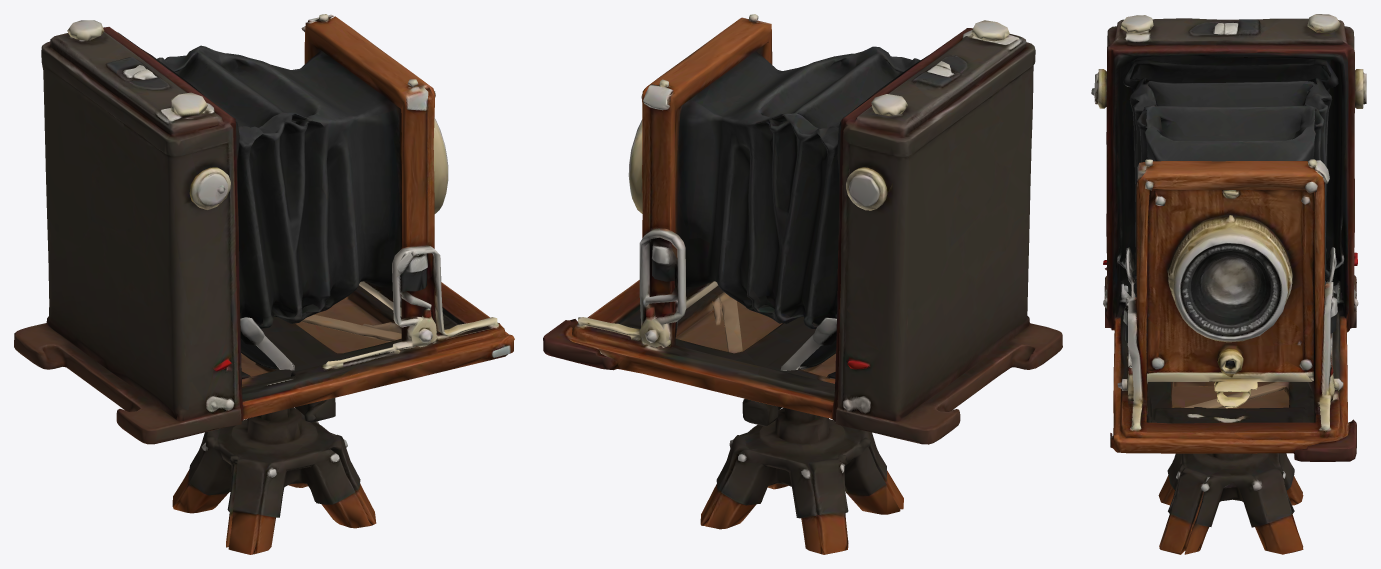
The model's file is camera.glb.
3 views of the same model, side by side, from view 1: azimuth 30°, elevation 25°; view 2: azimuth 150°, elevation 25°; view 3: azimuth 270°, elevation 25° (orthographic). The views are drawn at different scales.
Visible parts, largest first — view 1: tripo_node_ed1fbb64-b882-4550-9575-fbf9580a4e54; view 2: tripo_node_ed1fbb64-b882-4550-9575-fbf9580a4e54; view 3: tripo_node_ed1fbb64-b882-4550-9575-fbf9580a4e54.
Part boxes in pixels (left/top/right/bottom): tripo_node_ed1fbb64-b882-4550-9575-fbf9580a4e54: left=14, top=14, right=514, bottom=554; tripo_node_ed1fbb64-b882-4550-9575-fbf9580a4e54: left=543, top=14, right=1062, bottom=554; tripo_node_ed1fbb64-b882-4550-9575-fbf9580a4e54: left=1091, top=14, right=1366, bottom=554.
Size of the model in its own units: 0.4247 by 0.5 by 0.2818.
Materials: 1 (1 with a texture image).
